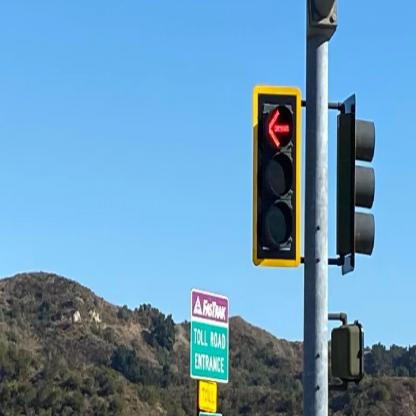left-red: (253, 86, 301, 267)
